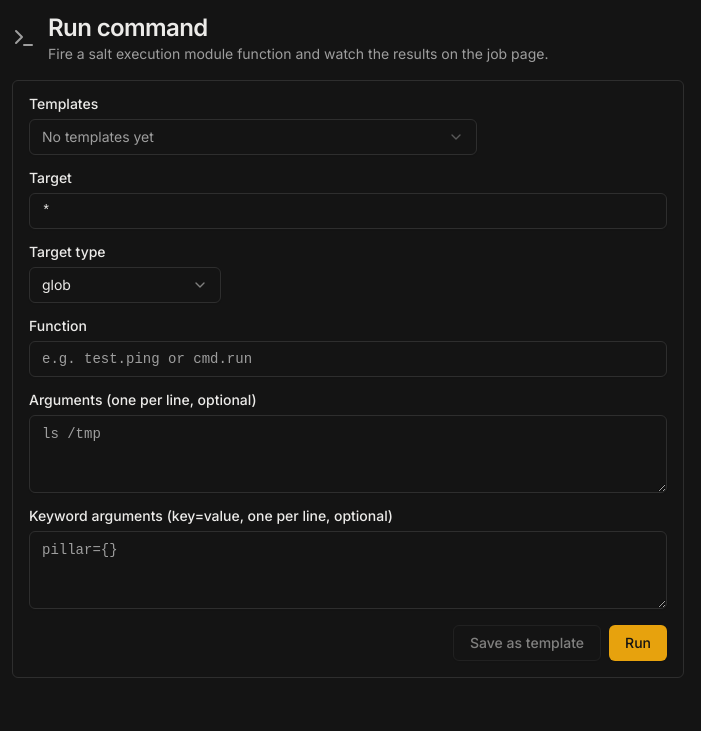
RunCommandPage › shows a kwargs-format error before submitting
Type "test.ping" into the dropdown labelled "Function" at point(348, 359), box left=29, top=341, right=667, bottom=377
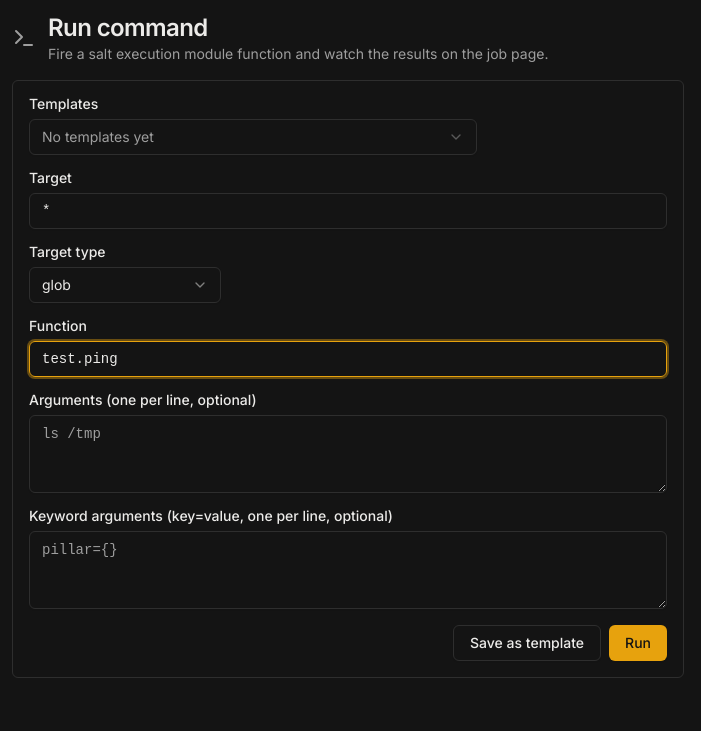
Type "no_equals_sign" into the text box labelled "Keyword arguments (key=value, one per line, optional)" at point(348, 570), box left=29, top=531, right=667, bottom=609
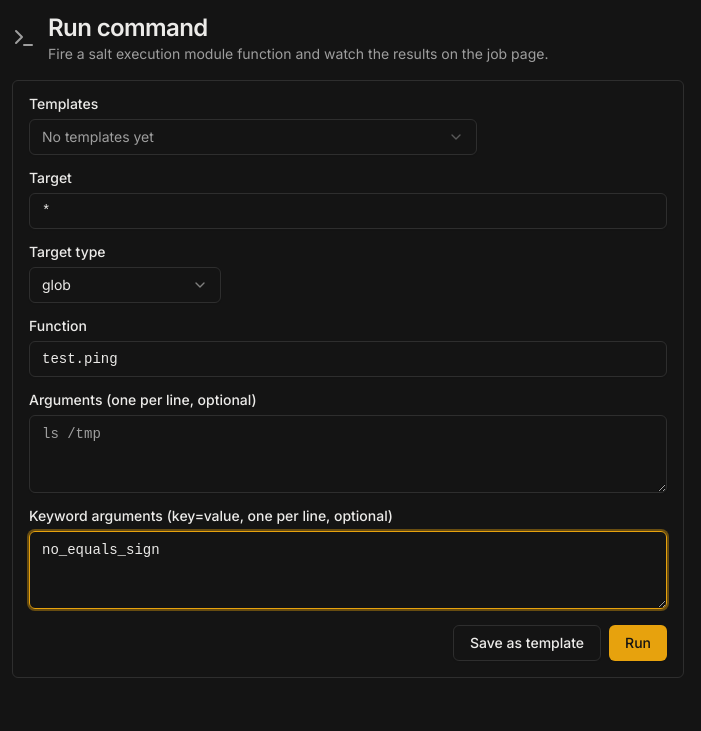
Click the button "Run" at point(638, 643), box left=609, top=625, right=667, bottom=661
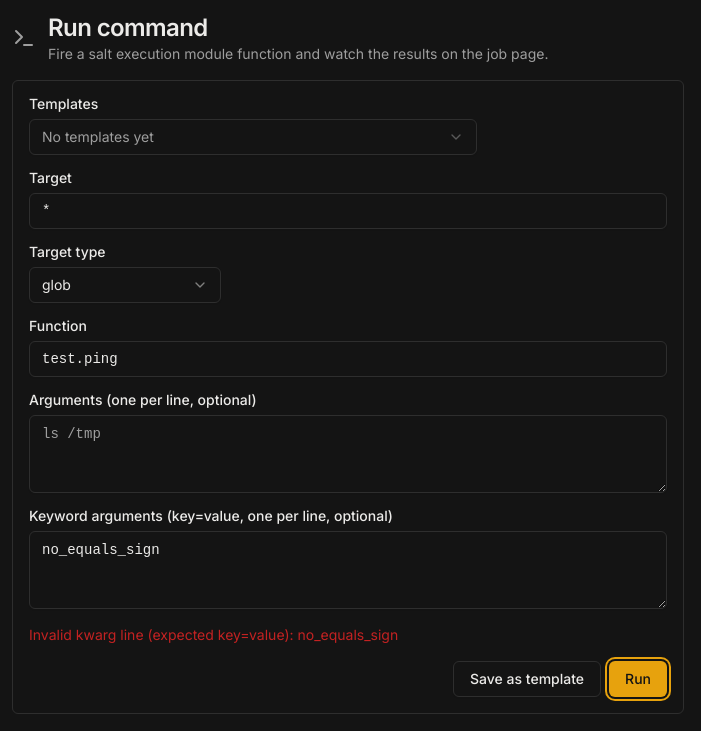
Check: the text "Invalid kwarg line (expected key=value): no_equals_sign" is shown, box left=29, top=626, right=398, bottom=643
